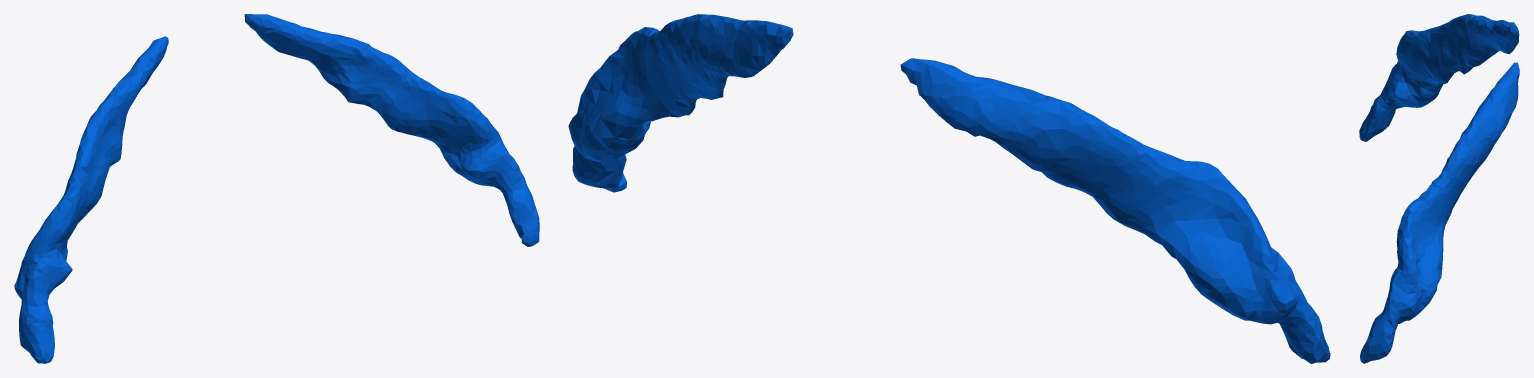
The model's file is 143-3b-area 3b of cortex (somatosensory)-('0.0000', '0.4588', '1.0000').obj.
3 views of the same model, side by side, from view 1: azimuth 30°, elevation 25°; view 2: azimuth 150°, elevation 25°; view 3: azimuth 270°, elevation 25° (orthographic). The views are drawn at different scales.
Bounding box in the file's own units: 348 × 143 × 100.
